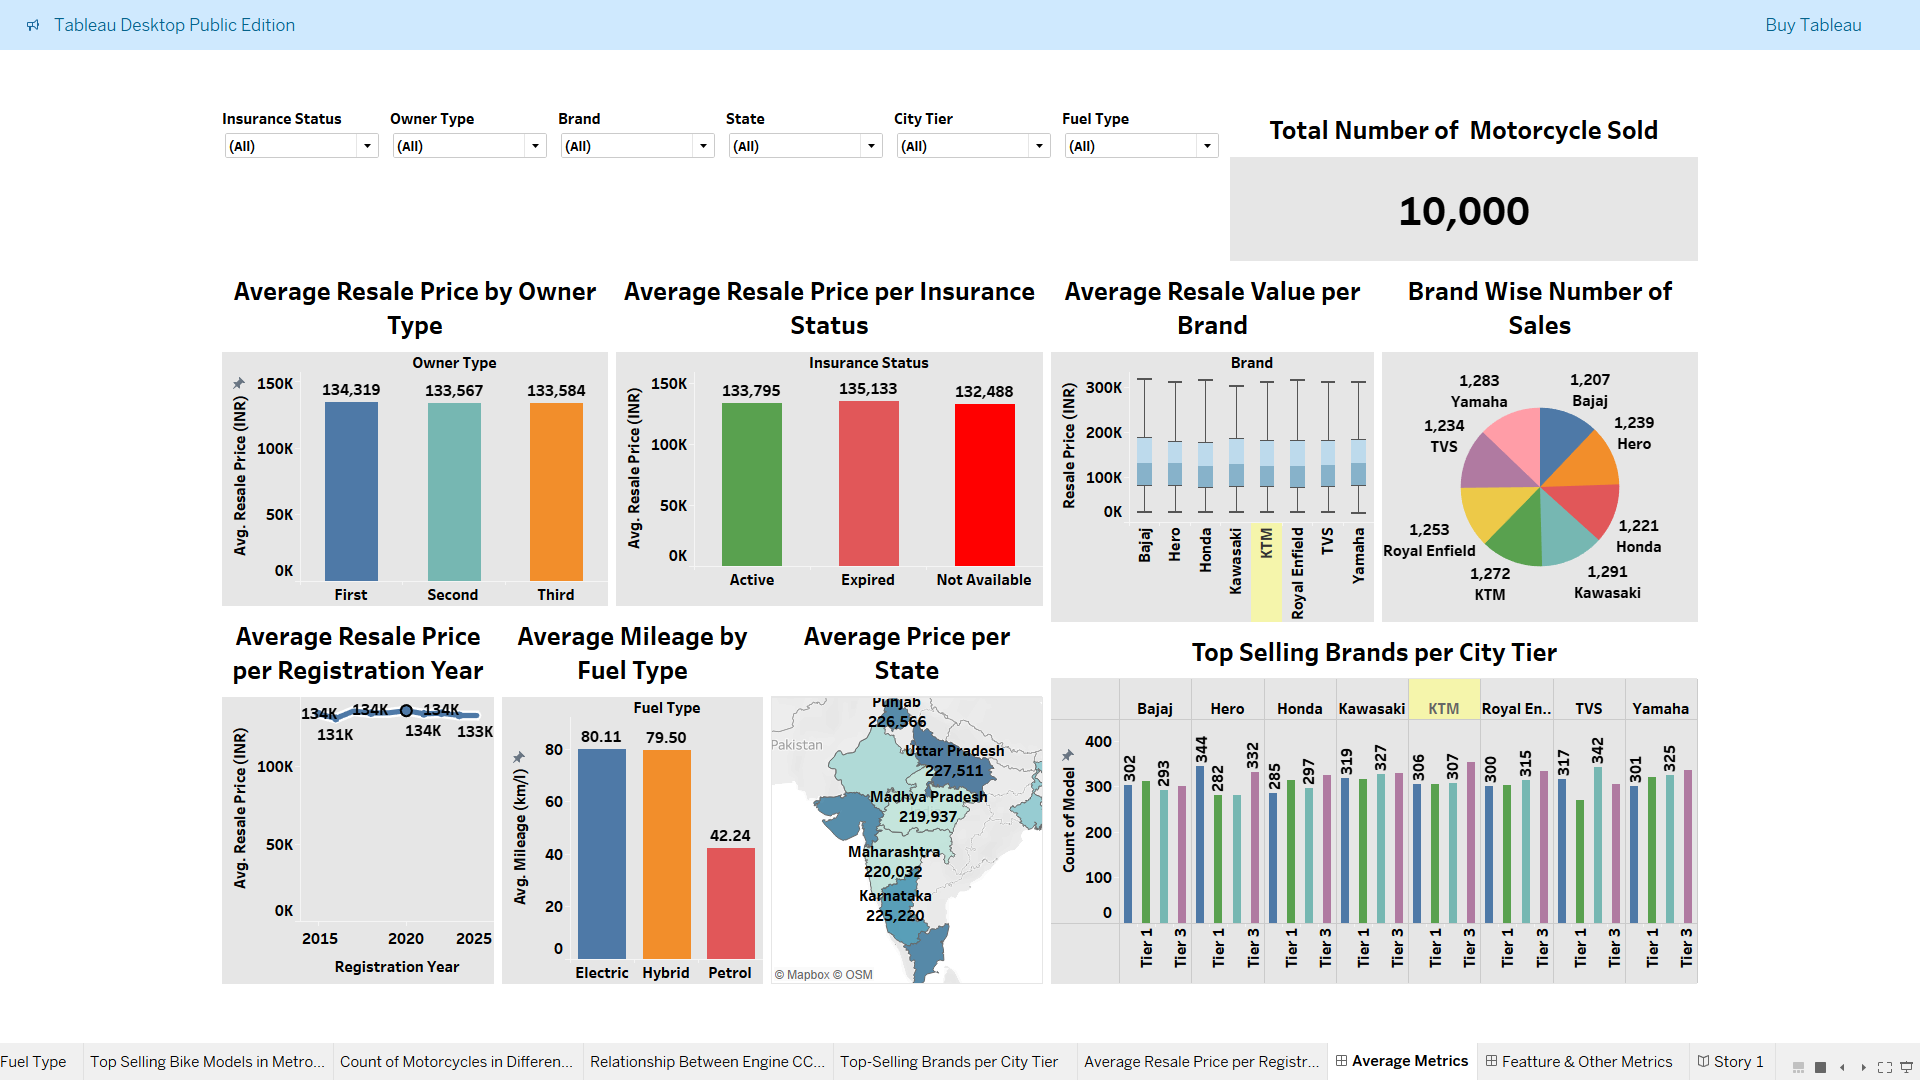

The page's visual inventory and layout, read from the dashboard file:
{"tool":"tableau","page":{"name":"Average Metrics","canvas":[1500,900],"ordinal":0},"visuals":[{"type":"filter","title":"Avg. Resale Price per Insurance Status","param":"[federated.0hxc69e11nsa2011g5ip81vb94xg].[none:Insurance Status:nk]","box":[8,8,168,161]},{"type":"filter","title":"Average Resale Price by Owner Type","param":"[federated.0hxc69e11nsa2011g5ip81vb94xg].[none:Owner Type:nk]","box":[176,8,168,161]},{"type":"filter","title":"Average Re-Sale Value per Brand","param":"[federated.0hxc69e11nsa2011g5ip81vb94xg].[none:Brand:nk]","box":[344,8,168,161]},{"type":"filter","title":"Average Price per State","param":"[federated.0hxc69e11nsa2011g5ip81vb94xg].[none:State:nk]","box":[512,8,168,161]},{"type":"filter","title":"Top-Selling Brands per City Tier","param":"[federated.0hxc69e11nsa2011g5ip81vb94xg].[none:City Tier:nk]","box":[680,8,168,161]},{"type":"filter","title":"Average Mileage by Fuel Type","param":"[federated.0hxc69e11nsa2011g5ip81vb94xg].[none:Fuel Type:nk]","box":[848,8,168,161]},{"type":"worksheet","title":"Total no. of Bike sold","mark":"Automatic","box":[1016,8,476,161]},{"type":"worksheet","title":"Average Resale Price by Owner Type","mark":"Bar","rows":["Resale Price (INR)"],"cols":["Owner Type"],"box":[8,169,394,345]},{"type":"worksheet","title":"Avg. Resale Price per Insurance Status","mark":"Bar","rows":["Resale Price (INR)"],"cols":["Insurance Status"],"box":[402,169,435,345]},{"type":"worksheet","title":"Average Re-Sale Value per Brand","mark":"Automatic","rows":["Resale Price (INR)"],"cols":["Brand"],"box":[837,169,331.5,361.5]},{"type":"worksheet","title":"Count of Total Sales per Brand","mark":"Pie","box":[1168.5,169,323.5,361.5]},{"type":"worksheet","title":"Average Resale Price per Registration Year","mark":"Automatic","rows":["Resale Price (INR)"],"cols":["Registration Year"],"box":[8,514,280,378]},{"type":"worksheet","title":"Average Mileage by Fuel Type","mark":"Bar","rows":["Mileage (km/l)"],"cols":["Fuel Type"],"box":[288,514,269,378]},{"type":"worksheet","title":"Average Price per State","mark":"Multipolygon","box":[557,514,280,378]},{"type":"worksheet","title":"Top-Selling Brands per City Tier","mark":"Automatic","rows":["Model"],"cols":["Brand","City Tier"],"box":[837,530.5,655,361.5]}]}

Visuals, with their boxes on the page's 1500x900 design canvas (x1, y1, x2, y2). These are canvas units, not pixel positions in the 1920x1080 screenshot, which may show the page scaled, cropped or inside an application window:
"Avg. Resale Price per Insurance Status" filter: <region>8, 8, 176, 169</region>
"Average Resale Price by Owner Type" filter: <region>176, 8, 344, 169</region>
"Average Re-Sale Value per Brand" filter: <region>344, 8, 512, 169</region>
"Average Price per State" filter: <region>512, 8, 680, 169</region>
"Top-Selling Brands per City Tier" filter: <region>680, 8, 848, 169</region>
"Average Mileage by Fuel Type" filter: <region>848, 8, 1016, 169</region>
"Total no. of Bike sold" worksheet: <region>1016, 8, 1492, 169</region>
"Average Resale Price by Owner Type" worksheet (Bar marks): <region>8, 169, 402, 514</region>
"Avg. Resale Price per Insurance Status" worksheet (Bar marks): <region>402, 169, 837, 514</region>
"Average Re-Sale Value per Brand" worksheet: <region>837, 169, 1168, 530</region>
"Count of Total Sales per Brand" worksheet (Pie marks): <region>1168, 169, 1492, 530</region>
"Average Resale Price per Registration Year" worksheet: <region>8, 514, 288, 892</region>
"Average Mileage by Fuel Type" worksheet (Bar marks): <region>288, 514, 557, 892</region>
"Average Price per State" worksheet (Multipolygon marks): <region>557, 514, 837, 892</region>
"Top-Selling Brands per City Tier" worksheet: <region>837, 530, 1492, 892</region>
